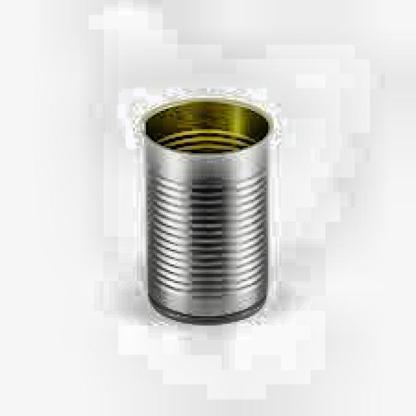Can: (133, 89, 279, 330)
